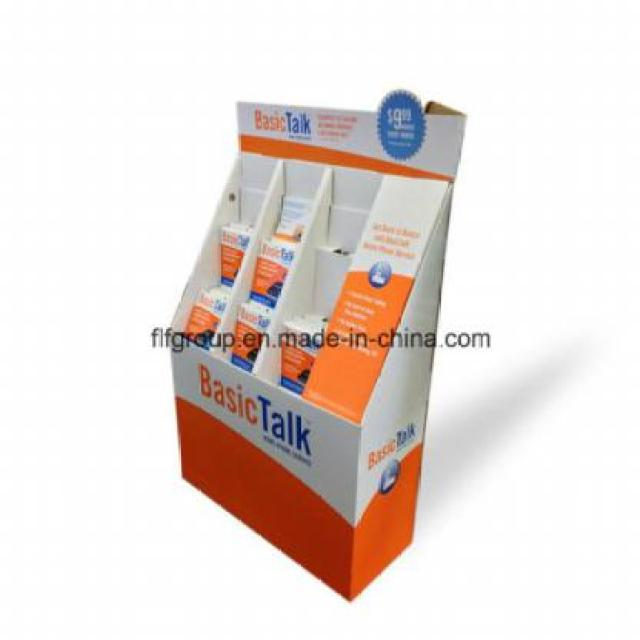box: (160, 81, 471, 606)
